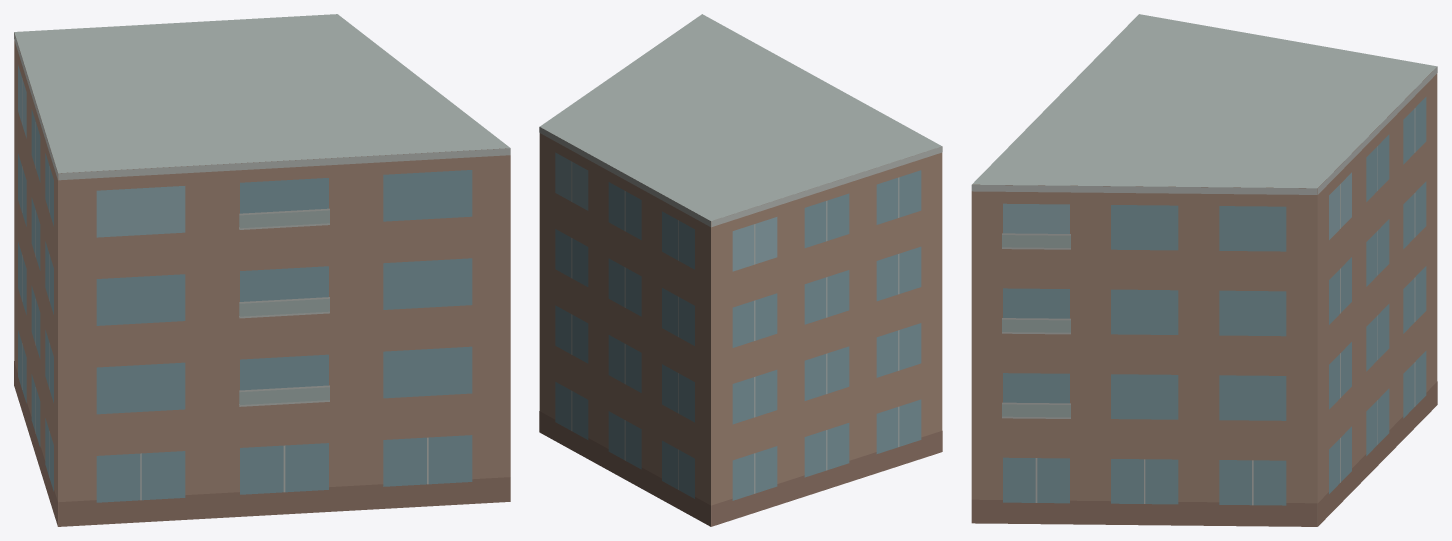
The model's file is residential-7135239a-08ec-42c8-8c3f-72b001355a38.glb.
3 views of the same model, side by side, from view 1: azimuth 30°, elevation 25°; view 2: azimuth 150°, elevation 25°; view 3: azimuth 270°, elevation 25° (orthographic). The views are drawn at different scales.
Parts seen in each view (by area): view 1: residential-7135239a-08ec-42c8-8c3f-72b001355a38.tmp; view 2: residential-7135239a-08ec-42c8-8c3f-72b001355a38.tmp; view 3: residential-7135239a-08ec-42c8-8c3f-72b001355a38.tmp.
Boxes of the visible parts, x1,y1,x2,y2 form: residential-7135239a-08ec-42c8-8c3f-72b001355a38.tmp: (14, 14, 510, 526); residential-7135239a-08ec-42c8-8c3f-72b001355a38.tmp: (539, 14, 942, 526); residential-7135239a-08ec-42c8-8c3f-72b001355a38.tmp: (971, 14, 1437, 526).
Bounding box in the file's own units: 13.47 × 12.2 × 15.22.
